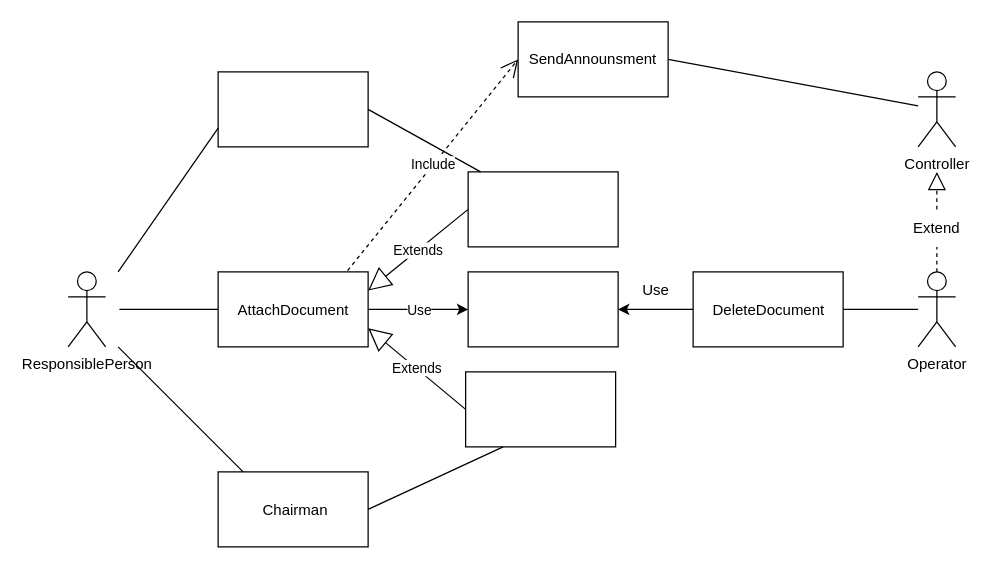
This 995x569 diagram has some shape labels left out. Here are the shapes that lost their labels. From the top down, the centre of each, then its label:
At [292,109]: "Author".
At [542,209]: "AttachToIssue".
At [542,309]: "Document".
At [540,409]: "AttachToResolution".
